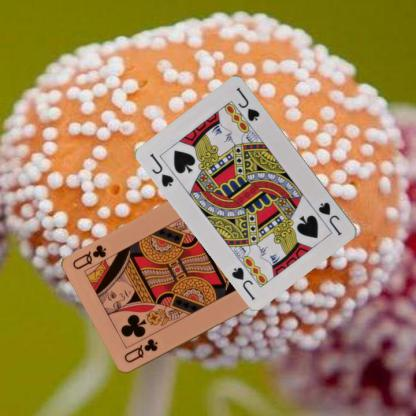Js: (146, 150, 176, 188), (315, 199, 344, 237)
Qc: (121, 336, 159, 365)
